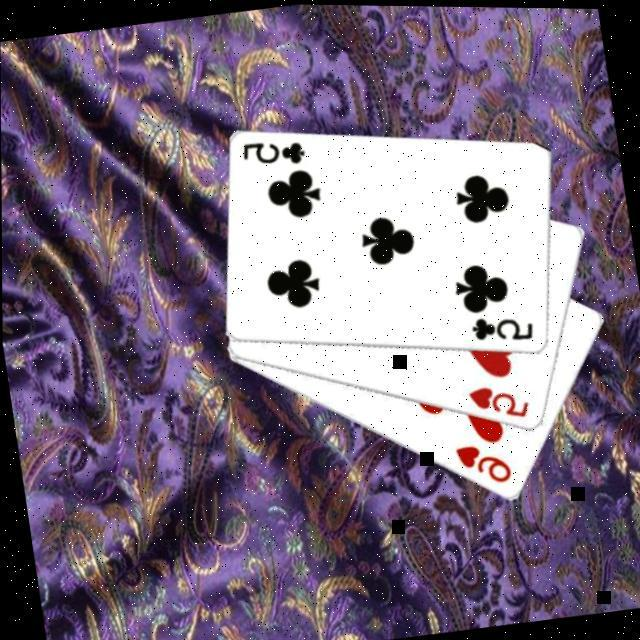5C: (467, 308, 537, 352), (238, 134, 310, 176)
5H: (463, 378, 533, 429)
9H: (450, 438, 514, 492)
